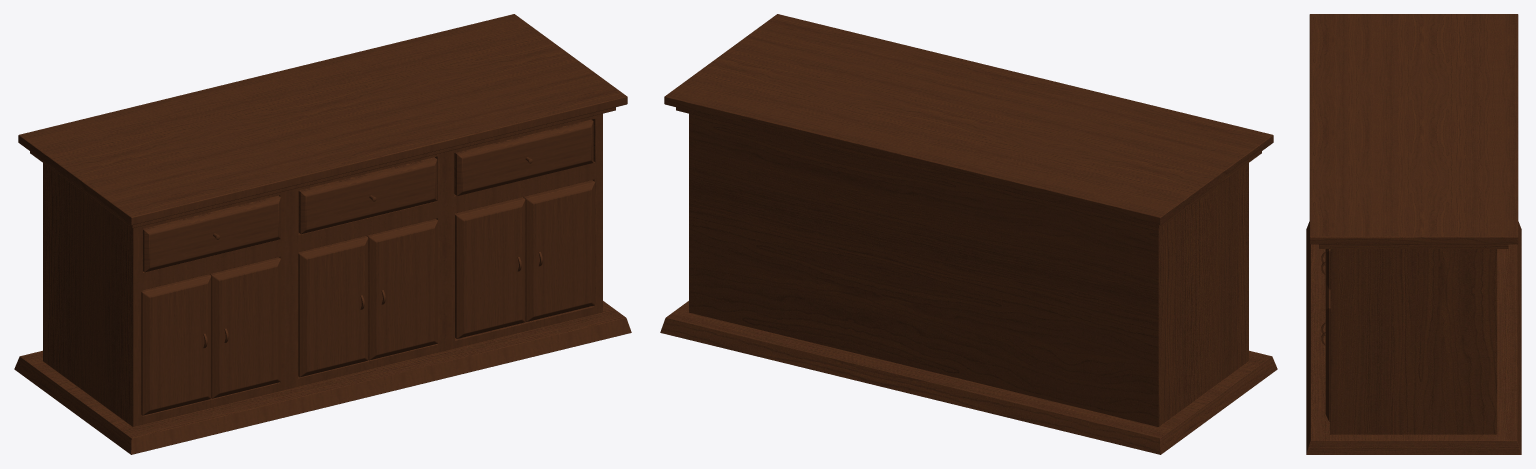
The model's file is tvTable.fbx.
3 views of the same model, side by side, from view 1: azimuth 30°, elevation 25°; view 2: azimuth 150°, elevation 25°; view 3: azimuth 270°, elevation 25° (orthographic). The views are drawn at different scales.
Visible parts, largest first — view 1: sideboard, drawerDoor2 (×3), drawerDoor3 (×3), drawer (×3); view 2: sideboard; view 3: sideboard, drawerDoor3.
Boxes of the visible parts, x1,y1,x2,y2 form: sideboard: (14,14,631,454); drawerDoor2 (×3): (141,197,525,415); drawerDoor3 (×3): (209,180,595,398); drawer (×3): (143,119,593,272); sideboard: (660,14,1277,454); sideboard: (1306,14,1521,454); drawerDoor3: (1325,283,1330,421).
Size of the model in its own units: 128 by 57.5 by 51.76.
